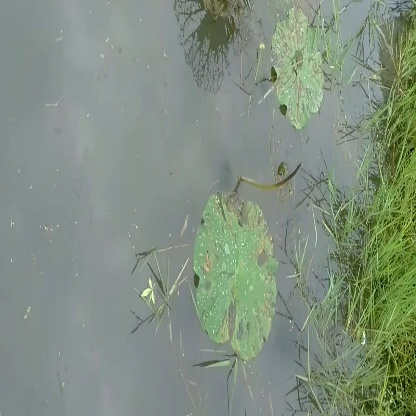leaf: (188, 193, 284, 360)
